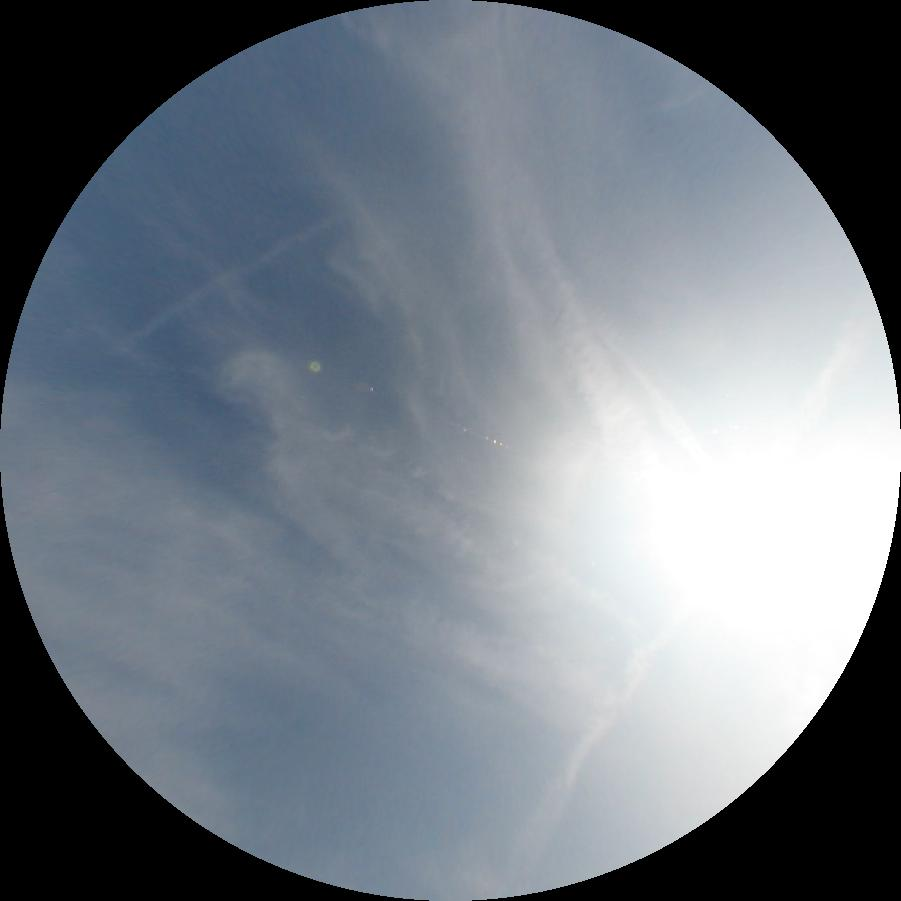contrail veryold: (510, 289, 880, 884), (216, 351, 646, 733), (517, 227, 674, 507), (110, 213, 339, 353), (571, 288, 713, 469)
sun: (662, 462, 897, 666)
